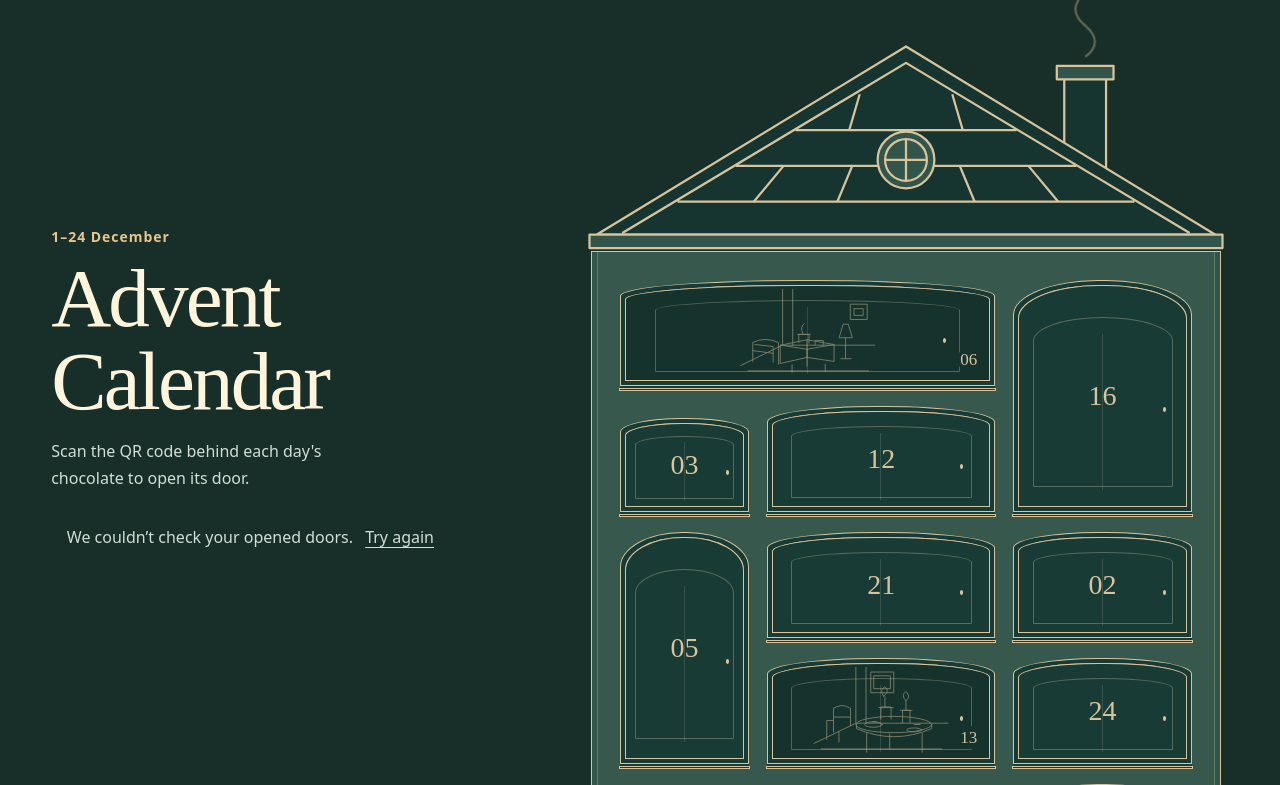
Scenario: house calendar and protected door transitions › shows and retries an overview failure without inventing unlocked days
The width and height of the screenshot is (1280, 785).
Click the button "Try again": (400, 537) [357,515,442,559]
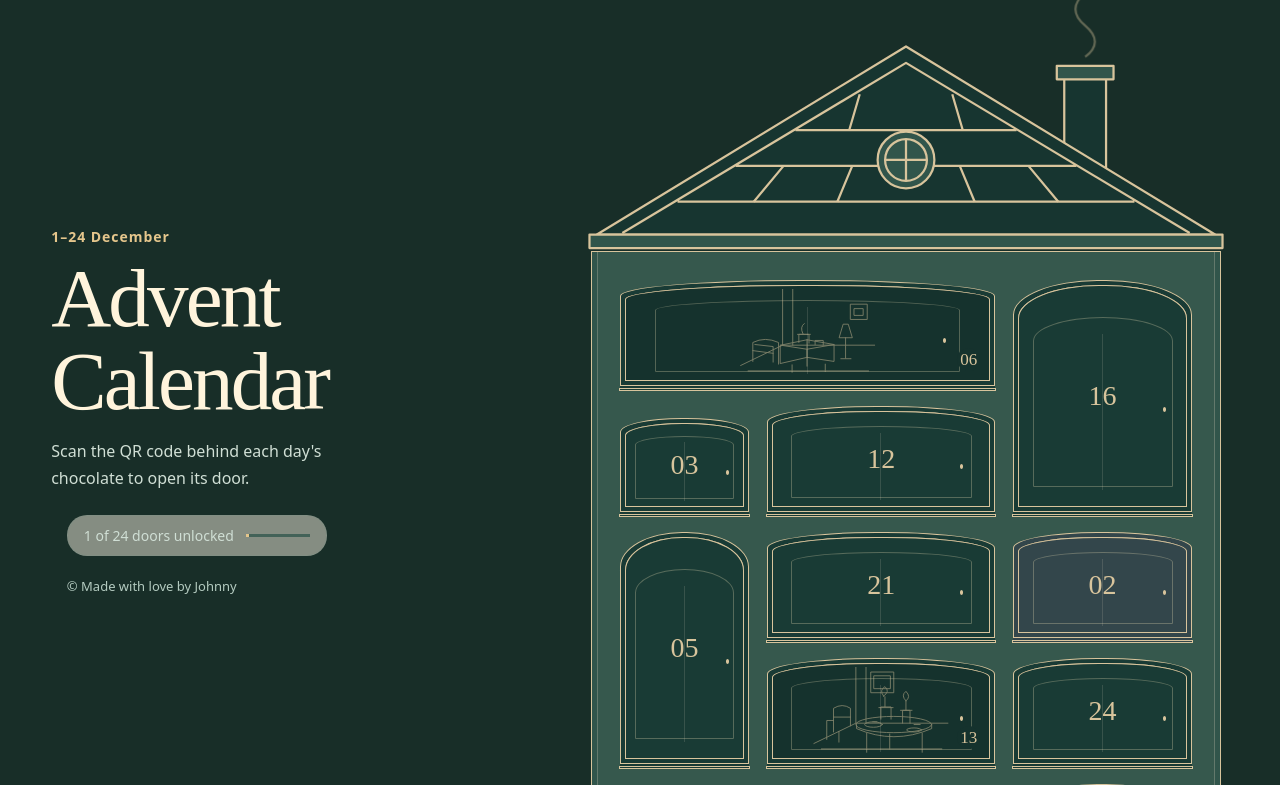
Check: the text "1 of 24" is shown, box [84,524,234,547]
